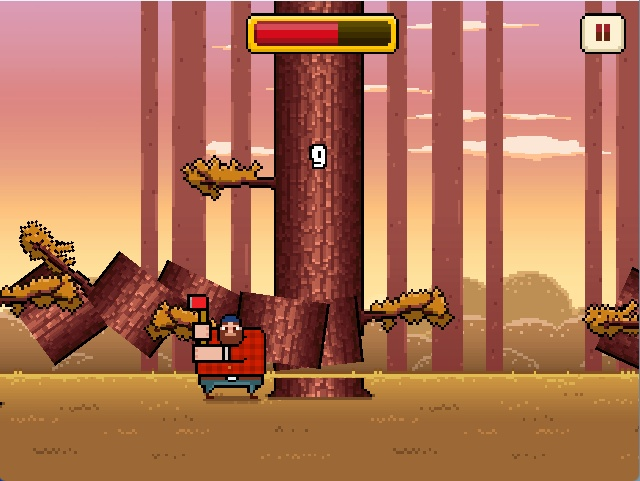left_obs: (169, 138, 289, 213)
right_obs: (359, 279, 457, 343)
timberman: (180, 282, 275, 421)
